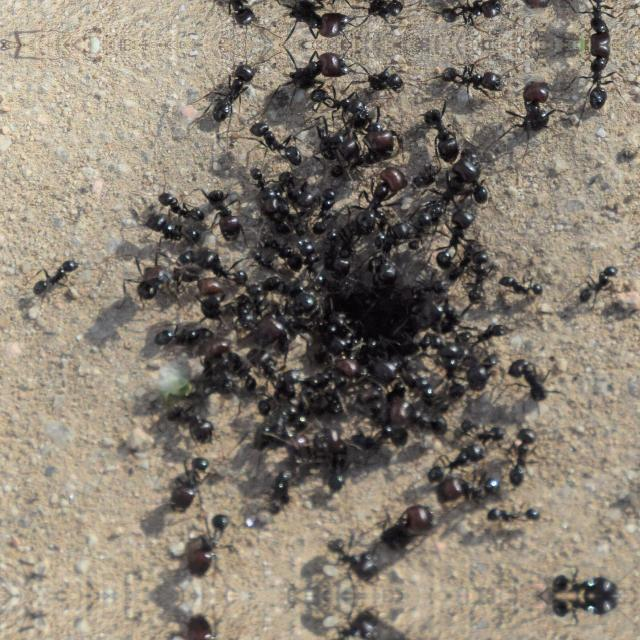Messor: (199, 52, 267, 122), (251, 288, 321, 352), (130, 203, 210, 257), (355, 162, 409, 234), (279, 48, 349, 102), (370, 492, 432, 550), (182, 510, 236, 576), (380, 395, 456, 441), (125, 255, 191, 307), (18, 252, 84, 300), (436, 55, 502, 101), (580, 44, 618, 122), (449, 154, 499, 213), (206, 343, 262, 395), (160, 451, 216, 503), (147, 395, 216, 437), (419, 98, 466, 158), (435, 208, 481, 268), (319, 532, 379, 578), (279, 0, 349, 39), (246, 346, 296, 398), (354, 228, 398, 286), (251, 116, 301, 166), (307, 76, 363, 120), (206, 182, 247, 242), (199, 0, 267, 36), (424, 442, 482, 484), (252, 399, 302, 447), (346, 335, 396, 383), (567, 264, 621, 306), (517, 356, 559, 410), (436, 0, 502, 33), (276, 161, 316, 213), (441, 472, 504, 504), (244, 165, 282, 218), (154, 185, 204, 225), (328, 333, 366, 382), (514, 79, 548, 133), (546, 568, 616, 594), (546, 596, 616, 622), (461, 336, 495, 388), (319, 612, 379, 640), (580, 0, 618, 44), (509, 424, 535, 488), (466, 245, 494, 303), (296, 232, 326, 286), (494, 270, 558, 294), (324, 440, 356, 488), (368, 61, 408, 99), (264, 460, 290, 518), (317, 184, 347, 232), (140, 323, 212, 343), (235, 266, 279, 298), (182, 614, 236, 640), (331, 222, 355, 280), (266, 232, 304, 268), (194, 275, 226, 317), (488, 505, 544, 529), (411, 195, 451, 228), (367, 0, 408, 27), (412, 160, 446, 188), (307, 0, 363, 11)
